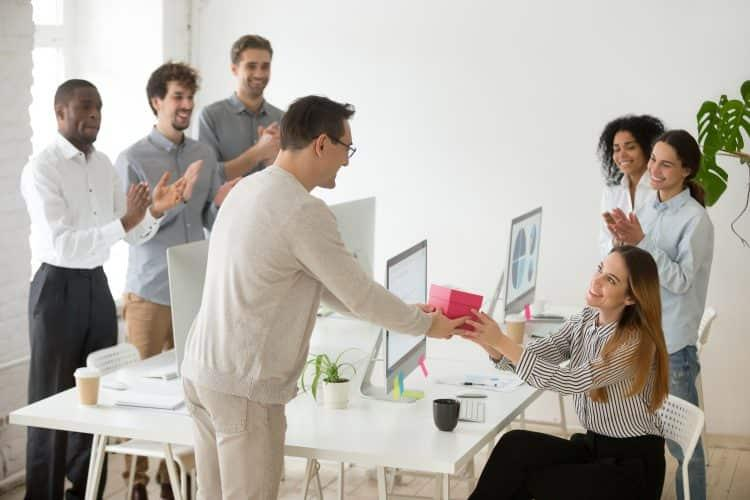No_BreathingApparatus: (310, 127, 359, 182), (161, 85, 197, 133), (64, 99, 102, 141), (242, 55, 275, 96)
No_Glove: (462, 307, 518, 354), (151, 171, 189, 218)
No_Goggles: (595, 259, 624, 290), (650, 153, 679, 168), (612, 142, 639, 154), (167, 91, 195, 102), (244, 62, 273, 72)
No_Harness: (31, 147, 117, 270)
No_Helmet: (279, 94, 355, 136), (148, 59, 201, 88), (54, 77, 103, 106), (612, 115, 665, 135), (231, 34, 273, 58), (651, 129, 699, 148), (606, 245, 656, 263)
